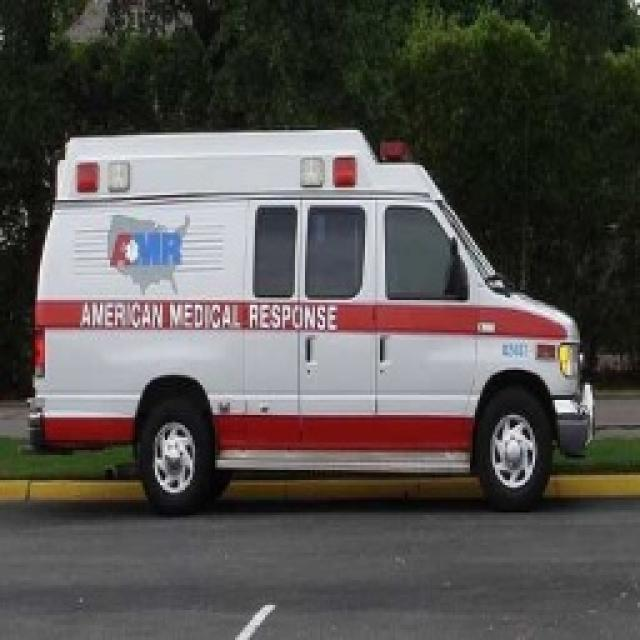emergency-vehicle: (19, 114, 619, 519)
